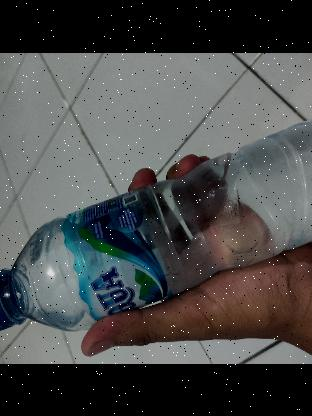Plastic Bottle: (0, 114, 312, 338)
